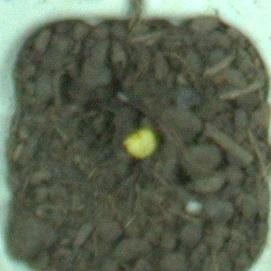chilli seed: (122, 127, 159, 159)
